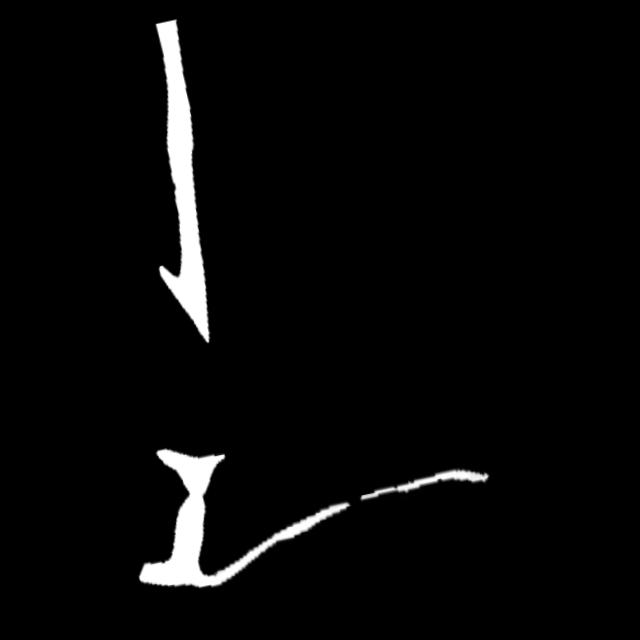sup: (332, 487, 365, 517)
